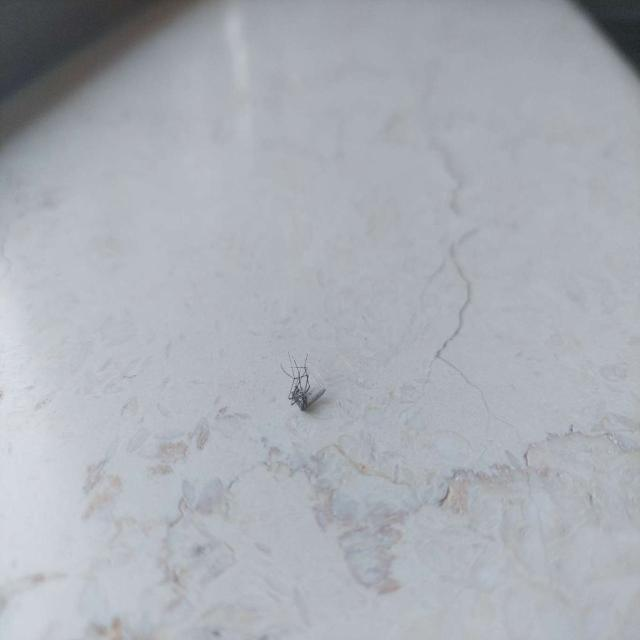albopictus: (276, 350, 329, 414)
